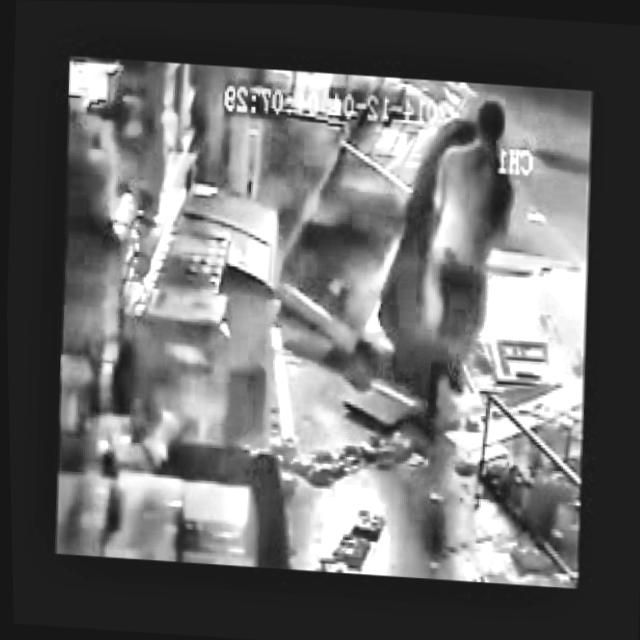burglary: (362, 100, 528, 428)
